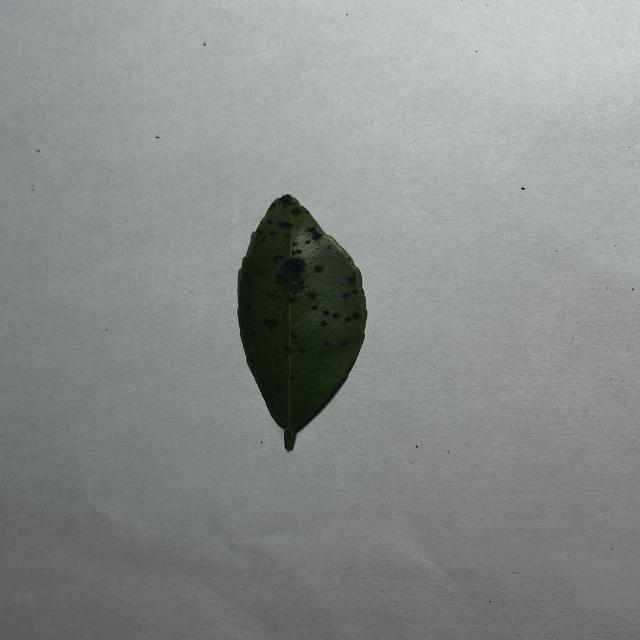sooty_mold: (237, 195, 367, 451)
